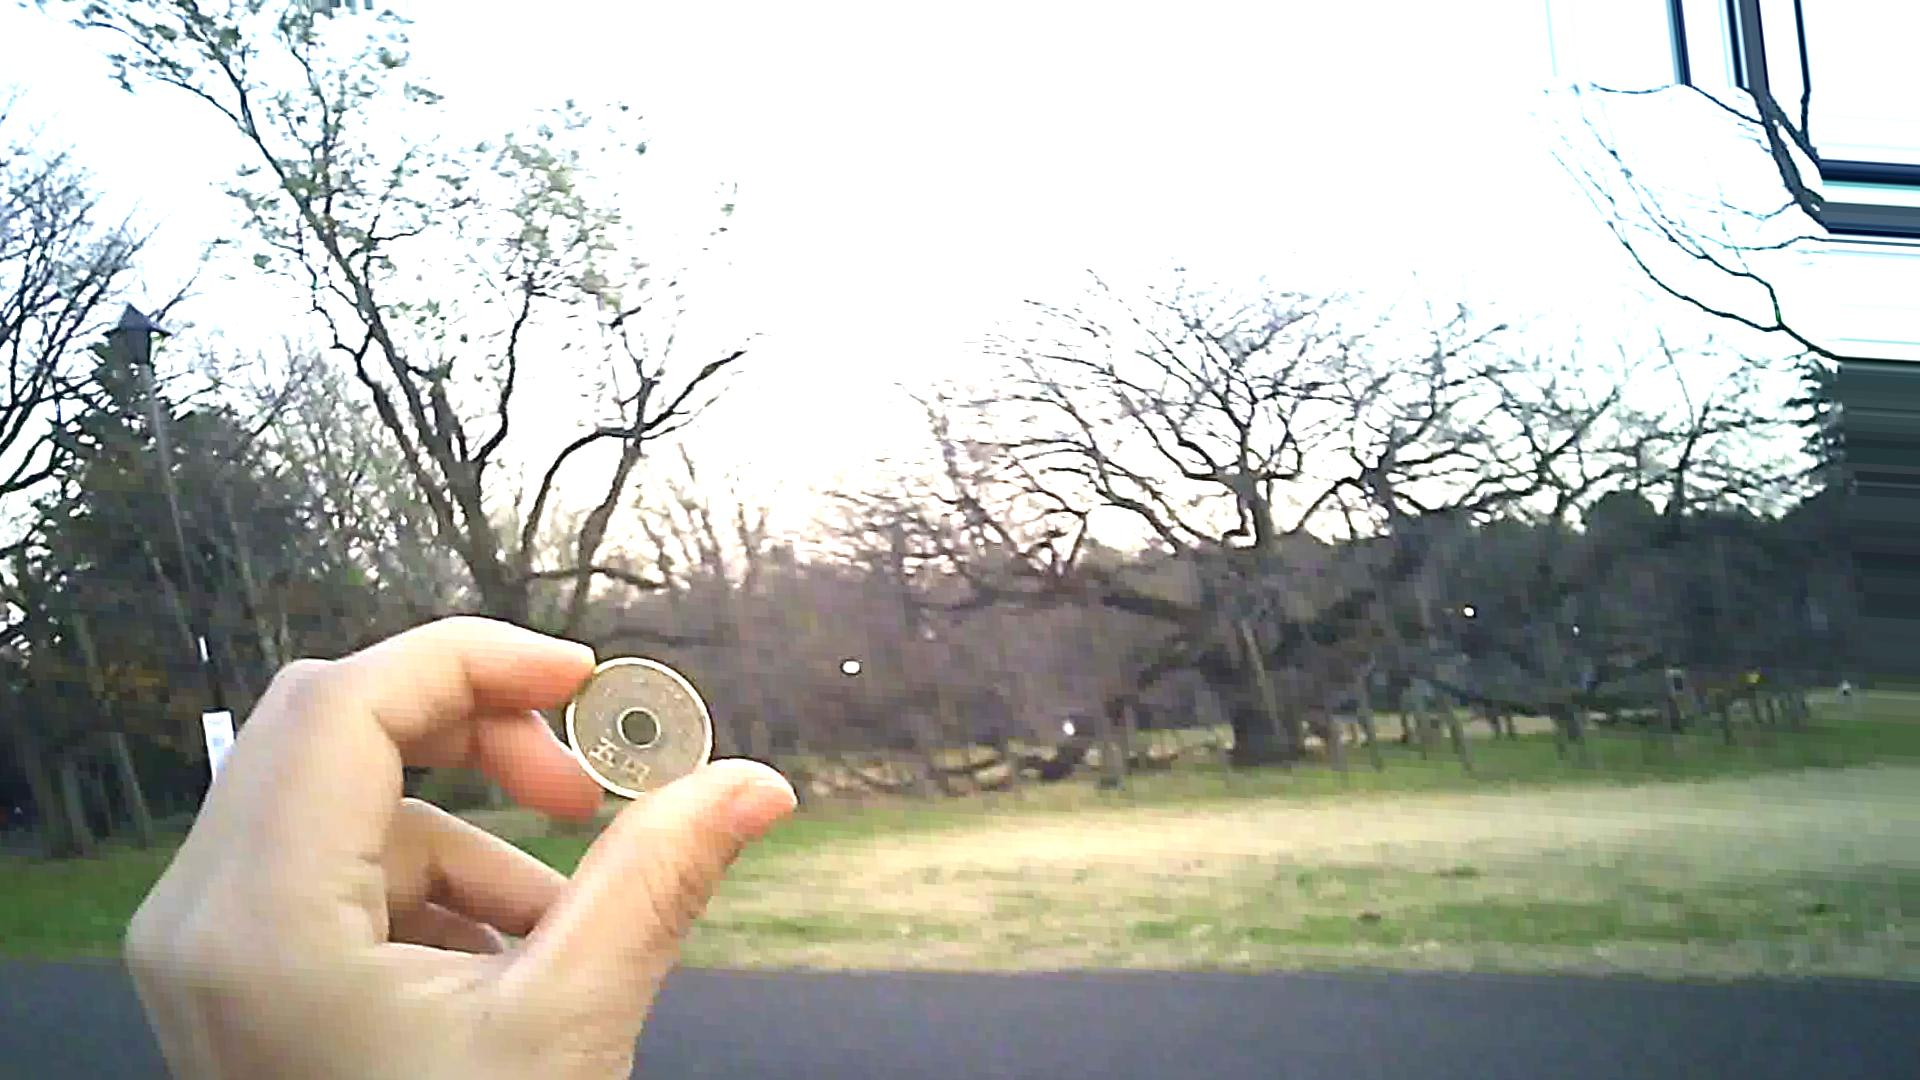5 Yen: (546, 658, 731, 814)
